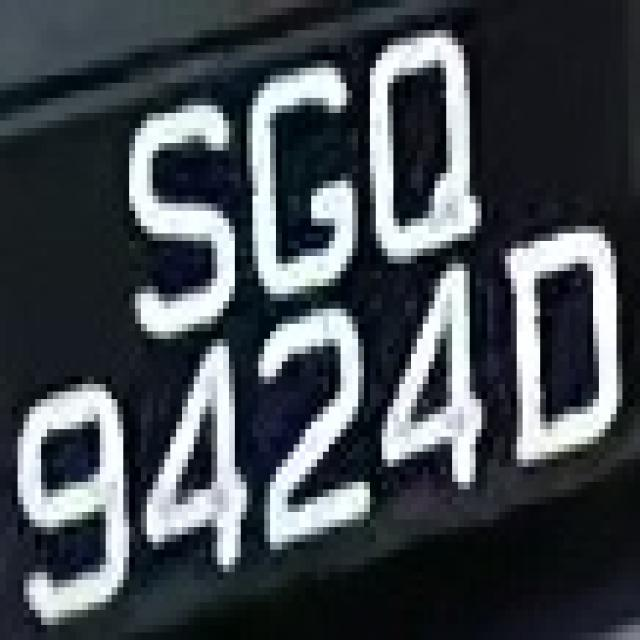2: (235, 316, 376, 550)
4: (364, 271, 499, 505), (141, 332, 252, 588)
9: (6, 361, 153, 640)
D: (505, 211, 616, 474)
G: (241, 38, 364, 294)
Q: (364, 15, 487, 264)
S: (112, 76, 240, 347)
